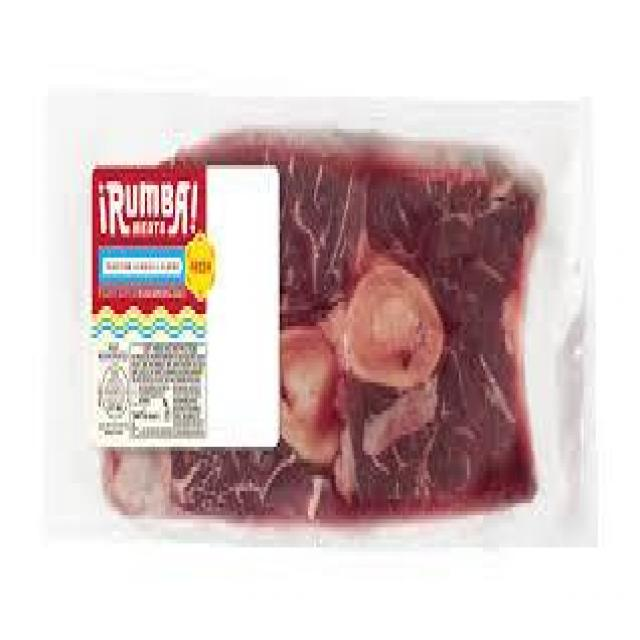Beef: (286, 122, 550, 538)
